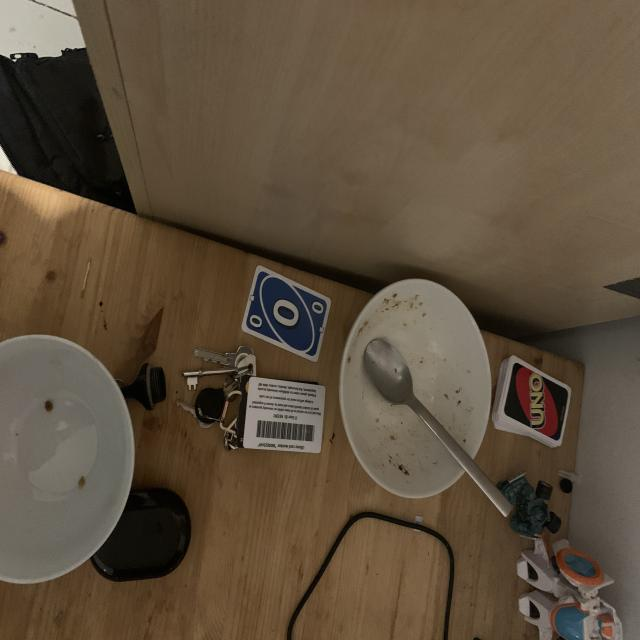lblue-0: (246, 309, 266, 334)
